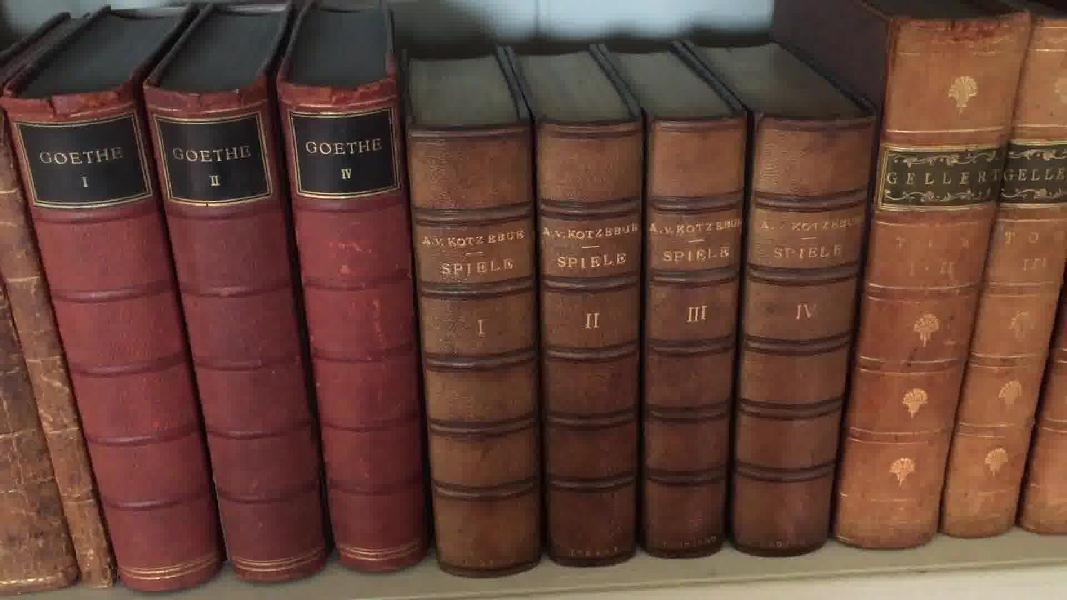Aa6-11_13: (8, 71, 475, 592)
Aa6-14_17: (397, 120, 888, 577)
